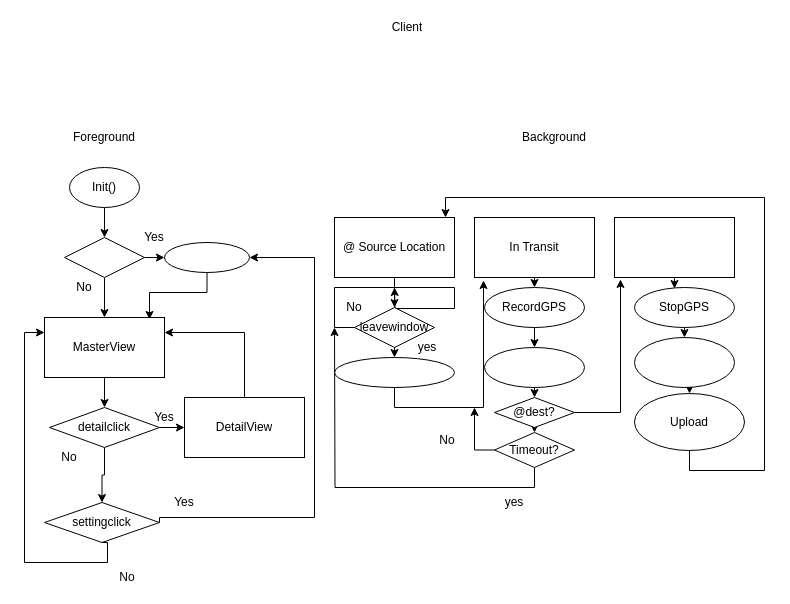
Some shapes in this 790 by 604 pixel diagram are drawn without their labels. The shapes that lost their labels are listed below. From the top down, each one's centre as x and y in pixels, then its label:
At point (104, 257): "FirstRun?".
At point (207, 257): "Settings()".
At point (674, 247): "@ Destination".
At point (394, 372): "StartGPS".
At point (534, 367): "RecordFeature".
At point (684, 362): "FeatureIDRequest".
